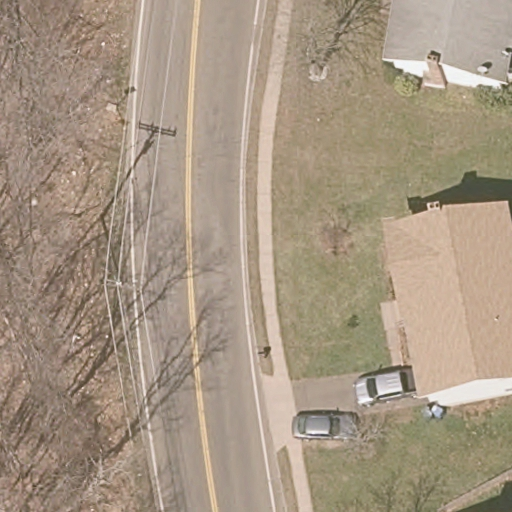DT: (103, 275, 137, 337)
